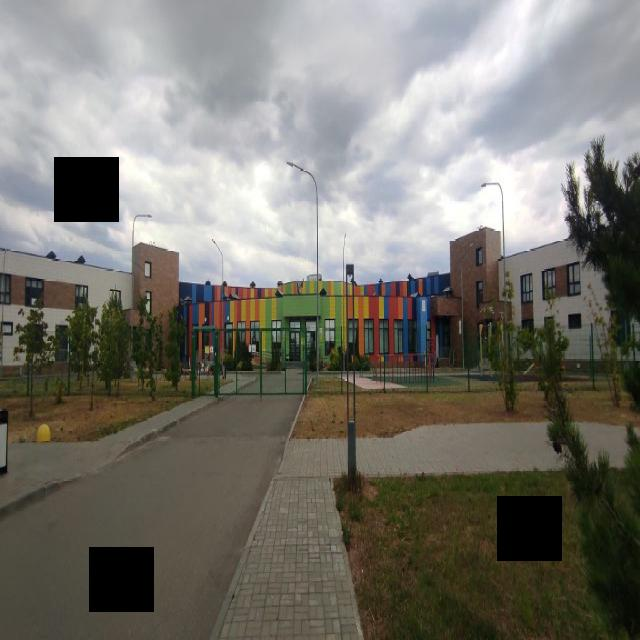Building: (0, 230, 640, 375)
